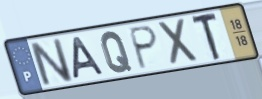A: (72, 34, 107, 81)
N: (27, 37, 77, 88)
P: (128, 24, 160, 72)
Q: (99, 30, 134, 75)
T: (190, 10, 223, 63)
X: (156, 16, 202, 68)
